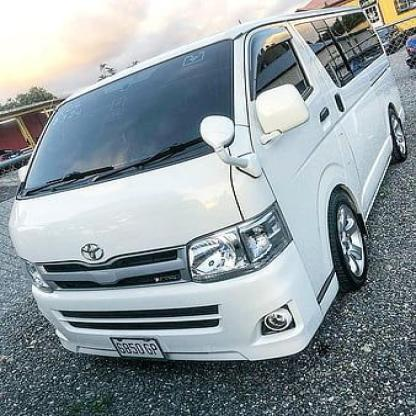number plate: (108, 333, 164, 358)
van front: (6, 3, 411, 380)
